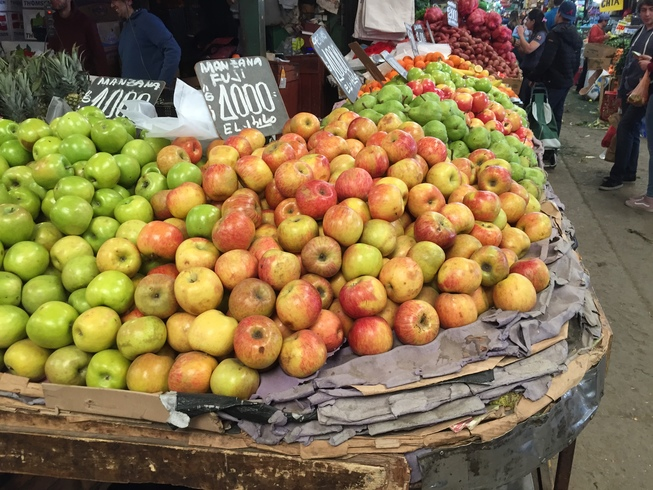precio: (194, 54, 291, 143), (76, 72, 166, 134), (310, 25, 367, 107), (379, 49, 408, 86), (443, 1, 460, 30), (412, 23, 427, 50)
